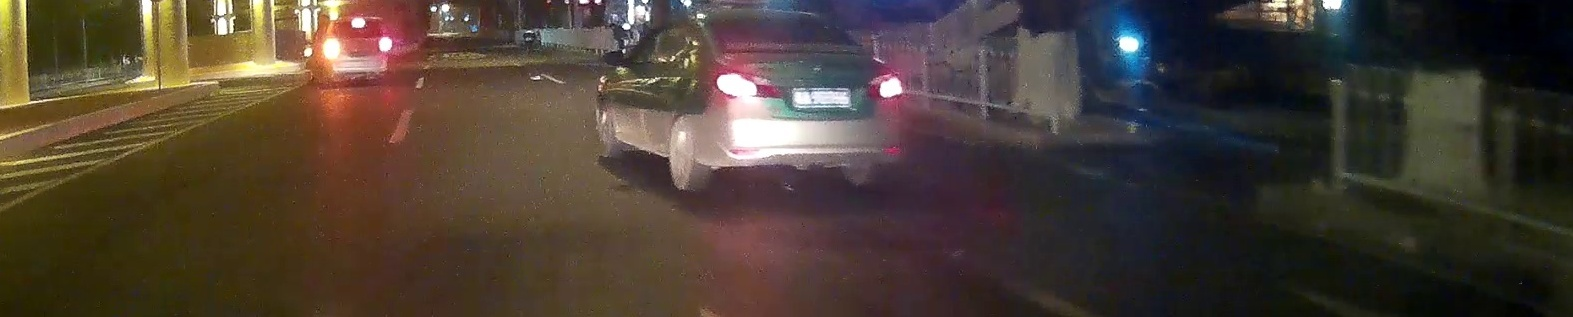L_light: (711, 62, 781, 99), (322, 38, 339, 60)
R_light: (869, 67, 902, 98), (378, 36, 392, 52)
T_light: (761, 17, 784, 24), (351, 18, 365, 28)
night-left: (322, 16, 392, 85)
night-no: (706, 9, 903, 189)
